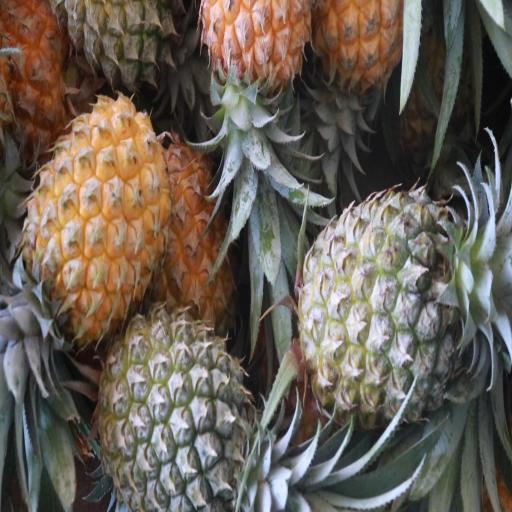------------------------------: (60, 0, 185, 92)
Pineapple - v8 v1: (22, 99, 169, 343), (156, 138, 245, 324)
